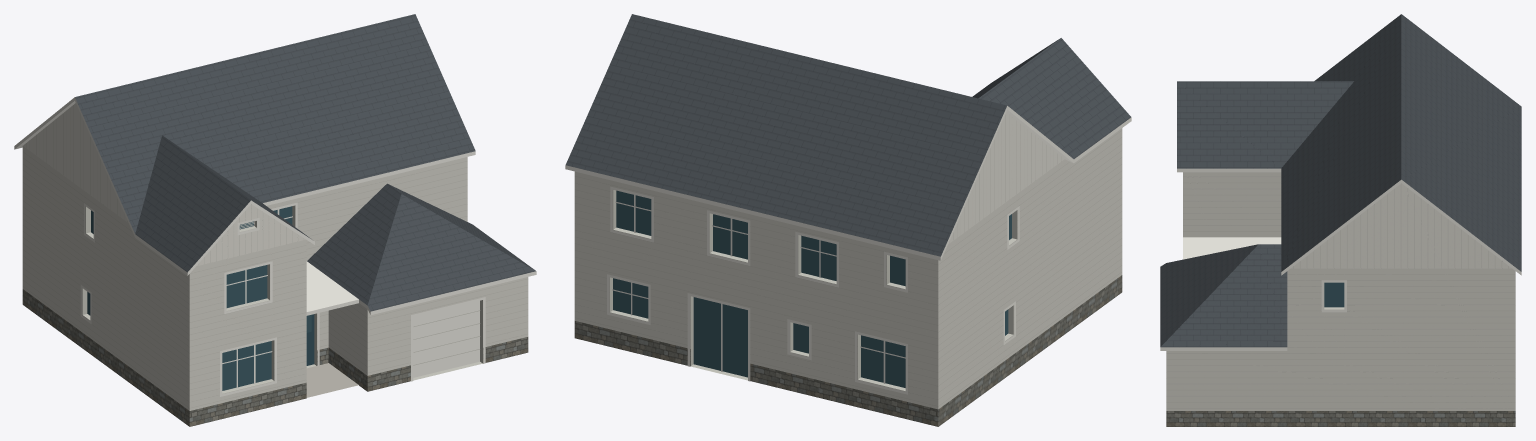
3 renders of one model, left to right at view 1: azimuth 30°, elevation 25°; view 2: azimuth 150°, elevation 25°; view 3: azimuth 270°, elevation 25°, orthographic. The views are drawn at different scales.
Visible parts, largest first — view 1: Roof_Main_Front, Left, Front_Wing, Roof_Garage_Hip_Front, Roof_Front_Gable_Left, Front, Front_Upper, Roof_Garage_Left, Opening_Front_Garage_Door, Garage_Porch_Return, Opening_Front_Lounge_Window, Opening_Front_Bedroom1_Window (+6 smaller); view 2: Roof_Main_Back, Back, Left, Roof_Front_Gable_Left, Opening_Rear_Patio_Doors, Opening_Rear_Snug_Window, Opening_Rear_Bedroom2_Window, Opening_Rear_Bedroom4_Window, Opening_Rear_Bedroom3_Window, Opening_Rear_Kitchen_Window, Opening_Rear_Utility_Window, Opening_Rear_Ensuite2_Window; view 3: right, Roof_Main_Back, Roof_Main_Front, Roof_Front_Gable_Right, Roof_Garage_Right, Front_Wing_Porch_Return, Roof_Garage_Hip_Front, Roof_Entry_Canopy, Opening_Right_Bathroom_Window.
Part boxes in pixels (x1,y1,x2,y2): Roof_Main_Front: (75, 14, 475, 237); Left: (22, 103, 189, 426); Front_Wing: (189, 204, 306, 426); Roof_Garage_Hip_Front: (367, 194, 536, 314); Roof_Front_Gable_Left: (135, 135, 251, 275); Front: (367, 277, 528, 391); Front_Upper: (267, 157, 467, 260); Roof_Garage_Left: (307, 183, 401, 308); Opening_Front_Garage_Door: (411, 297, 485, 381); Garage_Porch_Return: (328, 303, 367, 391); Opening_Front_Lounge_Window: (220, 337, 276, 396); Opening_Front_Bedroom1_Window: (224, 261, 272, 313); Roof_Main_Back: (565, 14, 1007, 260); Back: (574, 171, 938, 426); Left: (938, 112, 1122, 426); Roof_Front_Gable_Left: (978, 38, 1131, 162); Opening_Rear_Patio_Doors: (687, 293, 750, 381); Opening_Rear_Snug_Window: (855, 331, 907, 394); Opening_Rear_Bedroom2_Window: (795, 231, 838, 287); Opening_Rear_Bedroom4_Window: (610, 186, 653, 242); Opening_Rear_Bedroom3_Window: (707, 210, 750, 265); Opening_Rear_Kitchen_Window: (607, 274, 650, 324); Opening_Rear_Utility_Window: (787, 319, 811, 360); Opening_Rear_Ensuite2_Window: (884, 251, 907, 292); right: (1166, 183, 1515, 426); Roof_Main_Back: (1401, 14, 1521, 275); Roof_Main_Front: (1281, 14, 1401, 275); Roof_Front_Gable_Right: (1177, 81, 1353, 172); Roof_Garage_Right: (1160, 244, 1287, 350); Front_Wing_Porch_Return: (1183, 172, 1281, 237); Roof_Garage_Hip_Front: (1160, 244, 1257, 346); Roof_Entry_Canopy: (1183, 237, 1281, 259); Opening_Right_Bathroom_Window: (1321, 280, 1346, 312).
Size of the model in its own units: 11660 by 8210 by 10760.
Materials: 9 (4 with a texture image).
